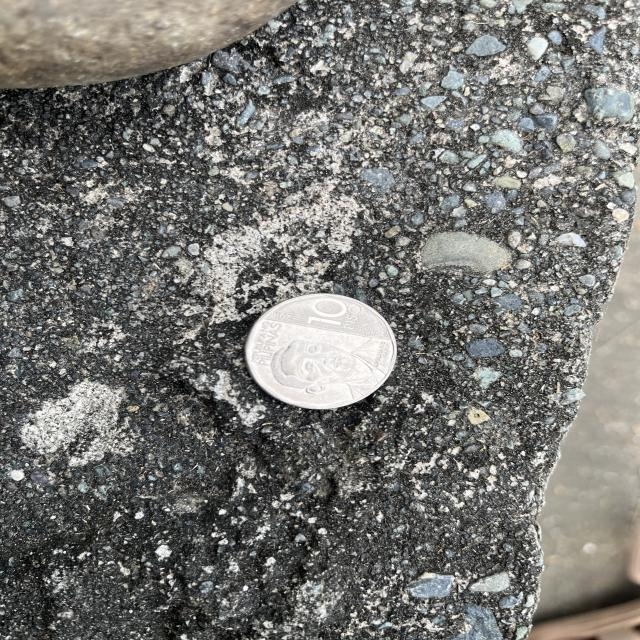10_New_Front: (302, 295, 364, 333)
